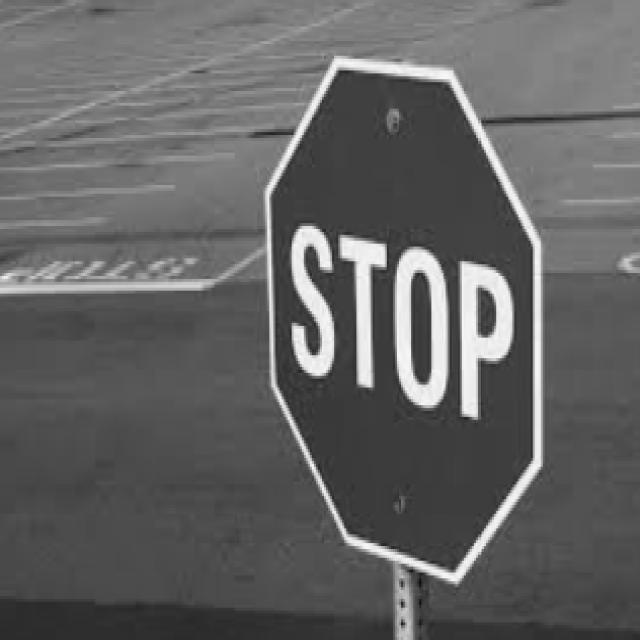Stop-signs: (267, 55, 543, 584)
